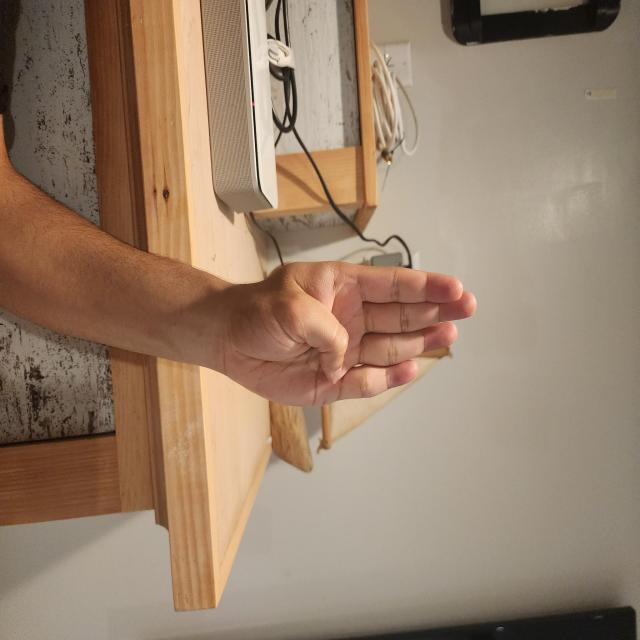B: (352, 215, 471, 574)
